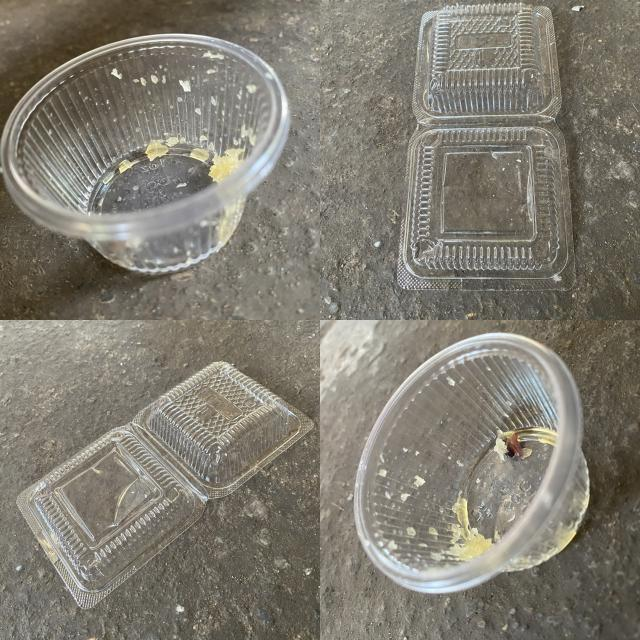Single-Use-Plastic: (16, 361, 314, 609), (1, 34, 290, 274), (355, 332, 589, 592), (398, 2, 575, 289)
